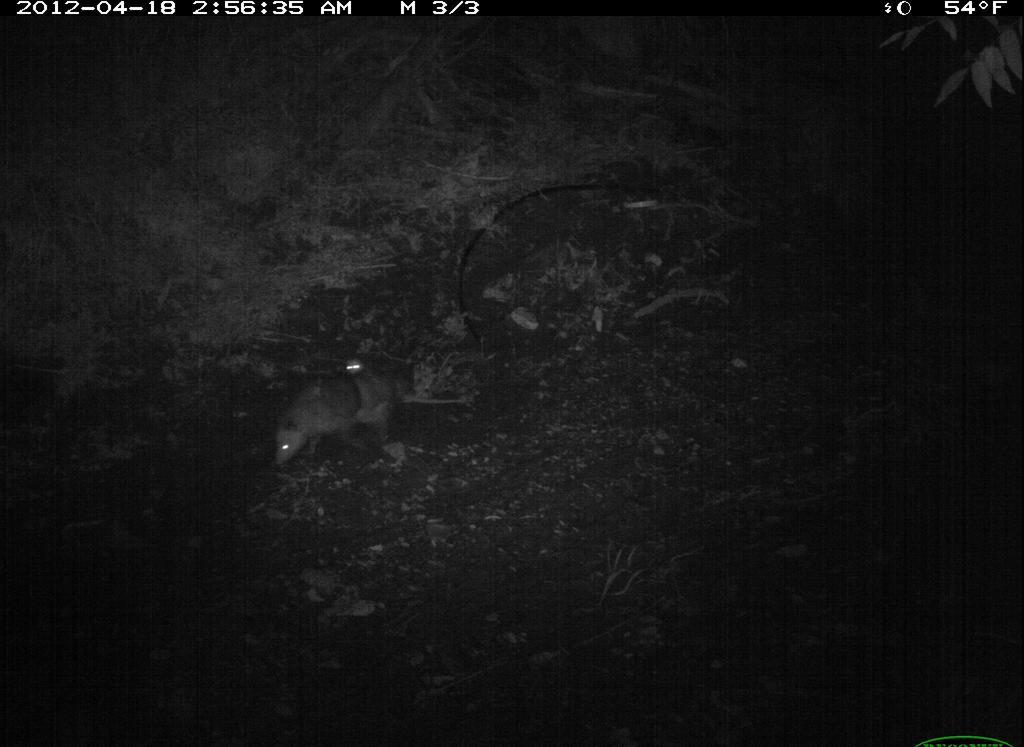opossum: (268, 360, 464, 473)
